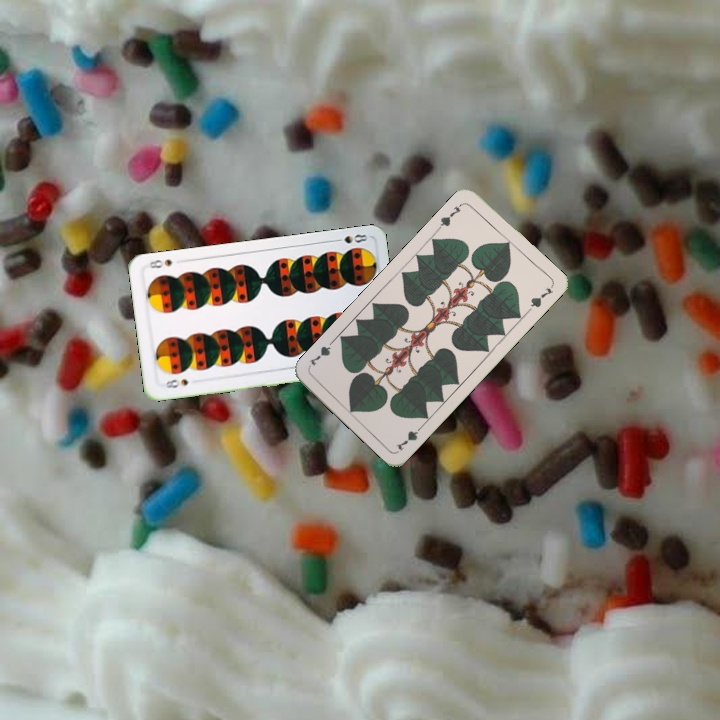G7: (392, 420, 426, 453), (434, 199, 466, 232)
S8: (329, 230, 370, 246), (161, 375, 191, 391)
